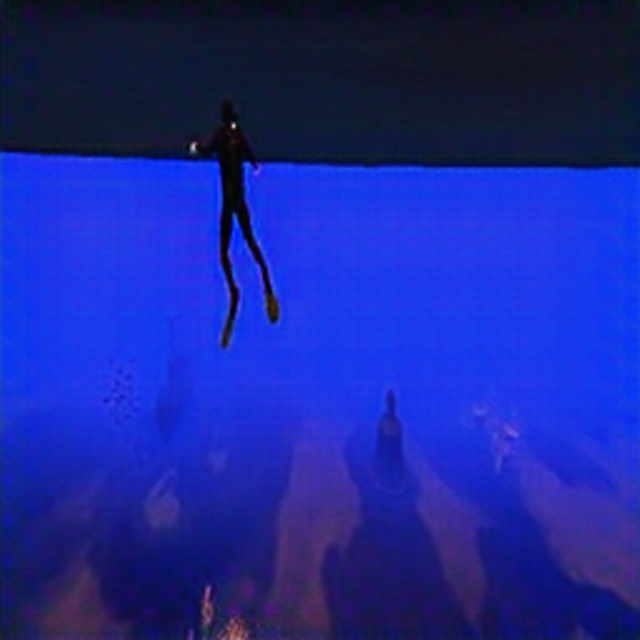diver: (188, 96, 279, 347)
